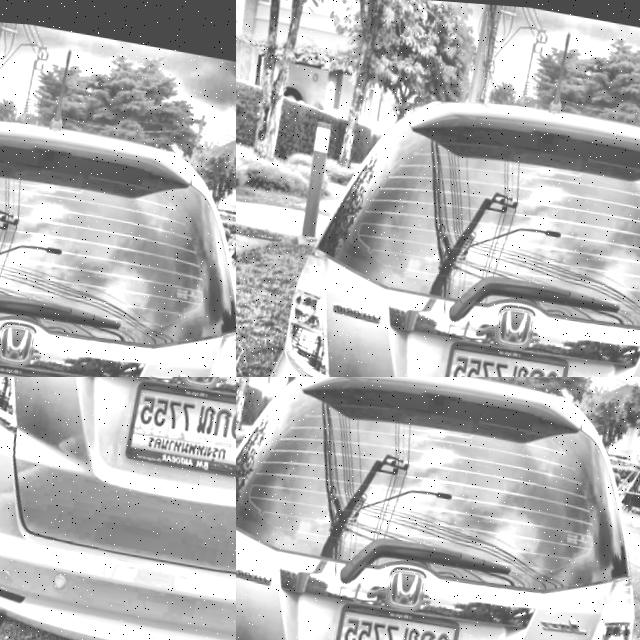license-plate: (333, 590, 469, 640)
